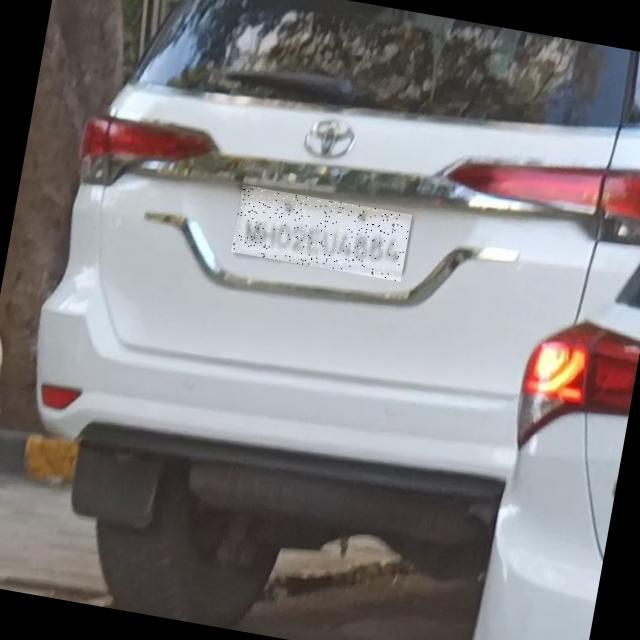Plate: (232, 186, 413, 283)
